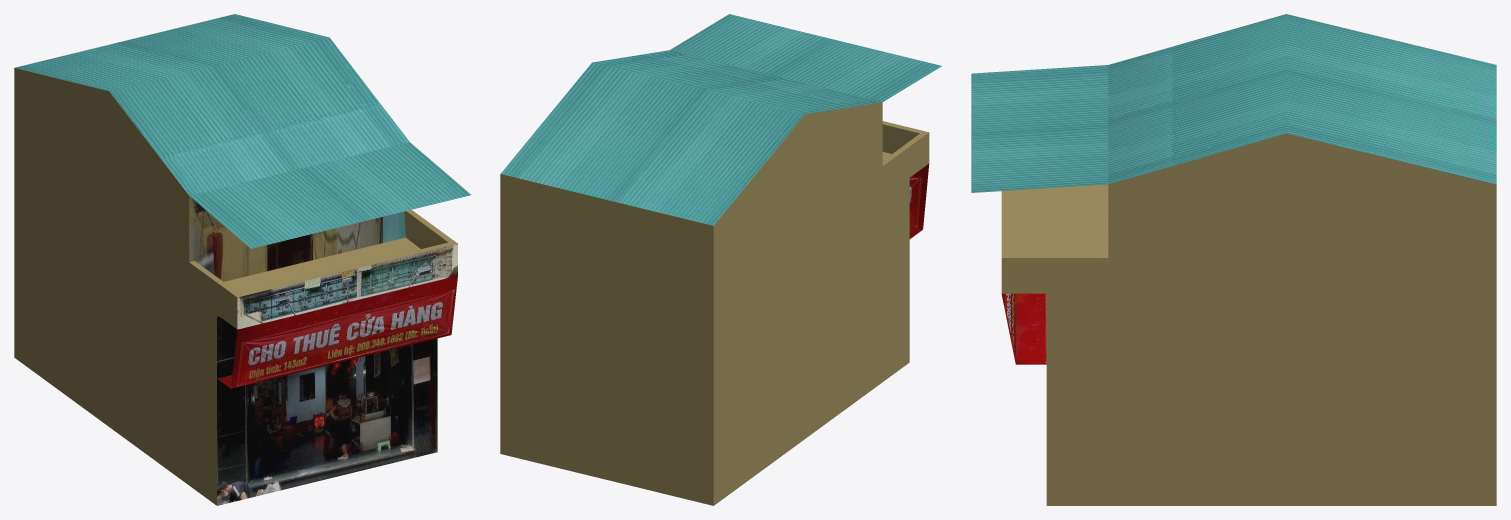
3 views of the same model, side by side, from view 1: azimuth 30°, elevation 25°; view 2: azimuth 150°, elevation 25°; view 3: azimuth 270°, elevation 25° (orthographic). The views are drawn at different scales.
Parts seen in each view (by area): view 1: HN904___Cho_thue_cua_hang; view 2: HN904___Cho_thue_cua_hang; view 3: HN904___Cho_thue_cua_hang.
Boxes of the visible parts, x1,y1,x2,y2 form: HN904___Cho_thue_cua_hang: (14,14,470,505); HN904___Cho_thue_cua_hang: (500,14,941,505); HN904___Cho_thue_cua_hang: (971,14,1496,505).
Bounding box in the file's own units: 4 × 5.82 × 7.44.
1 material, 1 textured.
